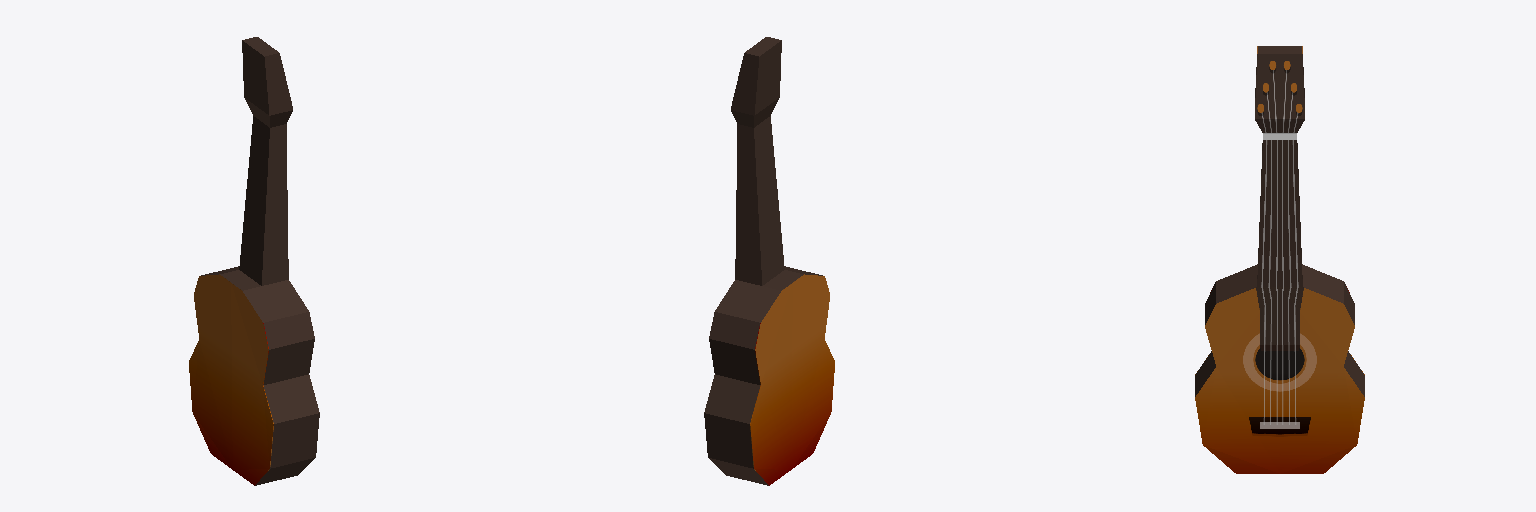
The picture shows the model from 3 angles: view 1: azimuth 30°, elevation 25°; view 2: azimuth 150°, elevation 25°; view 3: azimuth 270°, elevation 25°; orthographic projection.
Visible parts, largest first — view 1: Cube; view 2: Cube; view 3: Cube.
Boxes of the visible parts, x1,y1,x2,y2 form: Cube: [189, 37, 319, 485]; Cube: [704, 37, 834, 485]; Cube: [1195, 46, 1364, 473].
Bounding box in the file's own units: 0.6532 × 5.23 × 1.93.
1 materials, 1 textured.